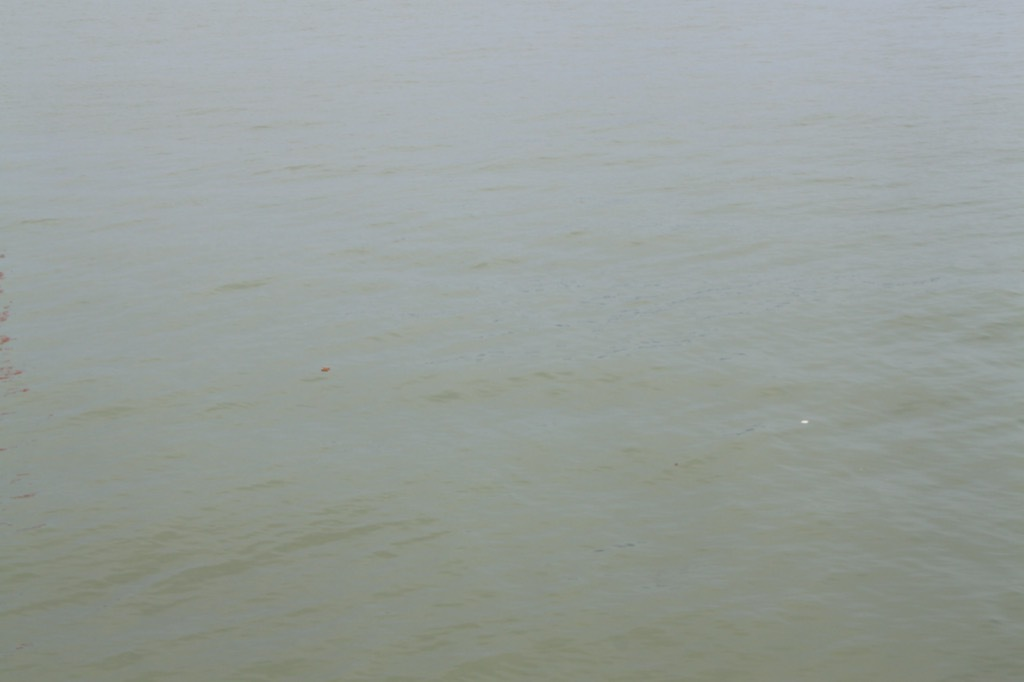organic: (671, 457, 680, 467)
plastic: (310, 357, 344, 384), (794, 411, 819, 434)
